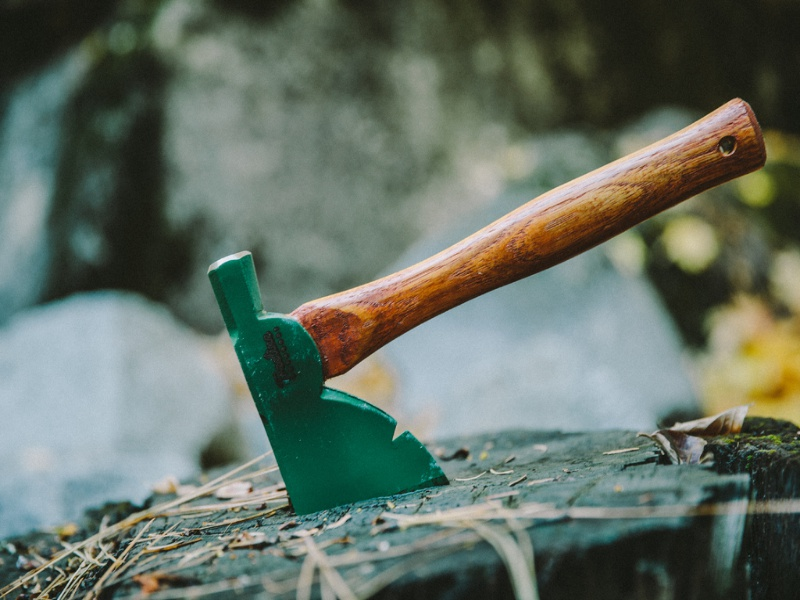axe: (204, 240, 479, 521)
